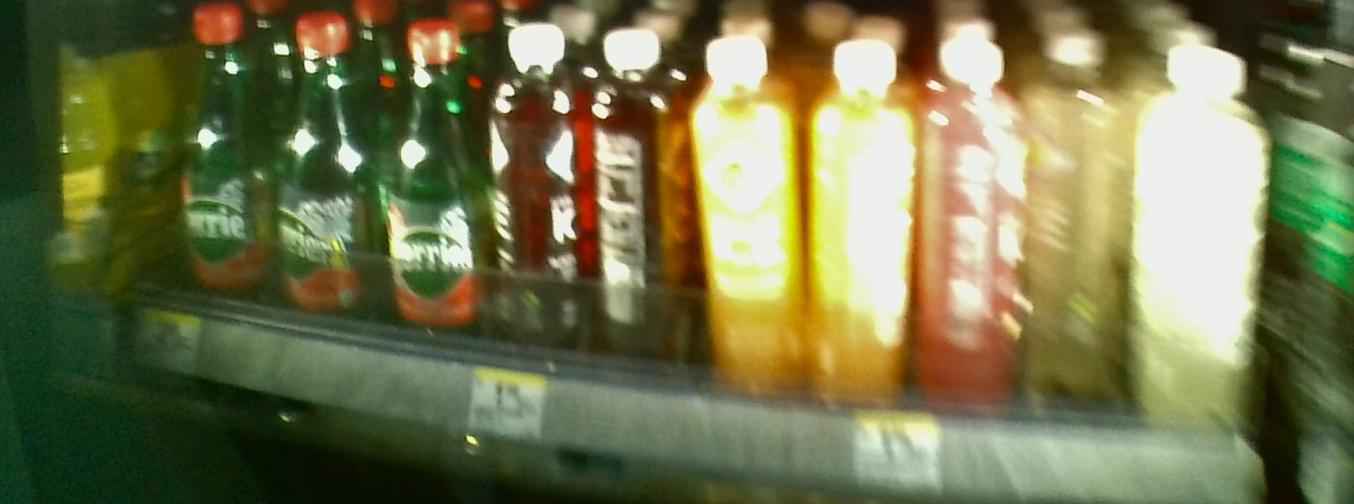bottle: (1134, 47, 1249, 436), (695, 36, 806, 408), (812, 23, 917, 412), (925, 43, 1030, 403), (591, 13, 689, 373), (485, 21, 585, 353), (1037, 27, 1121, 414), (380, 19, 478, 340), (173, 9, 271, 302), (278, 20, 371, 319)
